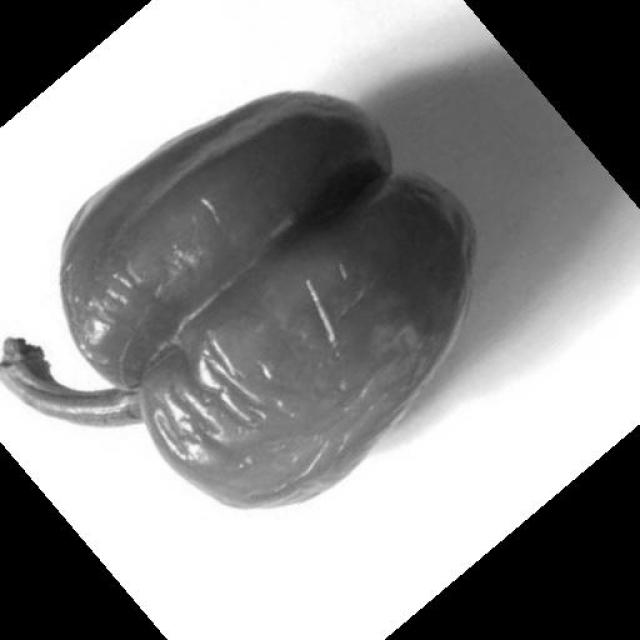Stale_Capsicum: (24, 110, 490, 530)
